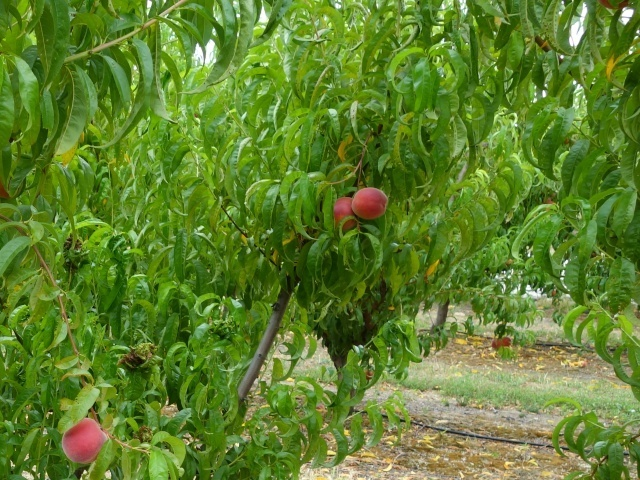peach: (60, 417, 109, 467), (350, 184, 392, 221), (328, 191, 364, 228)
